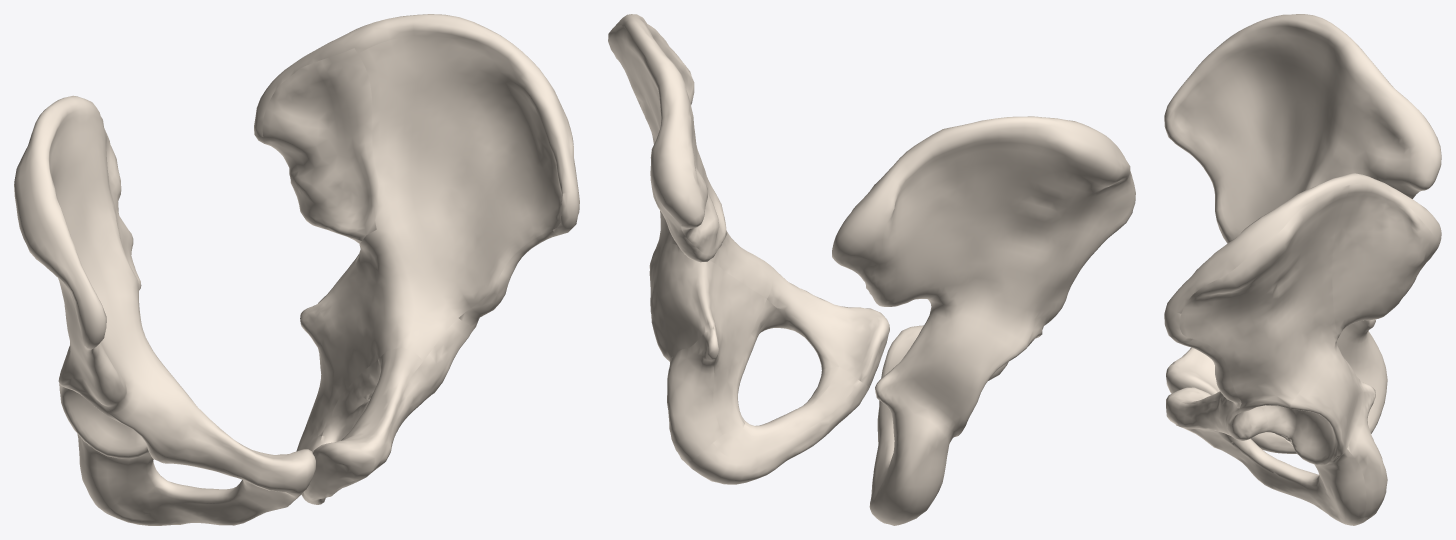
The model's file is pelvis_male.glb.
3 renders of one model, left to right at view 1: azimuth 30°, elevation 25°; view 2: azimuth 150°, elevation 25°; view 3: azimuth 270°, elevation 25°, orthographic. The views are drawn at different scales.
Visible parts, largest first — view 1: Hip bone.l, Hip bone.r; view 2: Hip bone.r, Hip bone.l; view 3: Hip bone.l, Hip bone.r.
Boxes of the visible parts, x1=… form: Hip bone.l: x1=254, y1=14, x2=579, y2=504; Hip bone.r: x1=14, y1=95, x2=315, y2=525; Hip bone.r: x1=832, y1=116, x2=1135, y2=525; Hip bone.l: x1=608, y1=14, x2=889, y2=484; Hip bone.l: x1=1164, y1=173, x2=1441, y2=525; Hip bone.r: x1=1164, y1=14, x2=1441, y2=453.
Bounding box in the file's own units: 0.2697 × 0.2171 × 0.1417.
